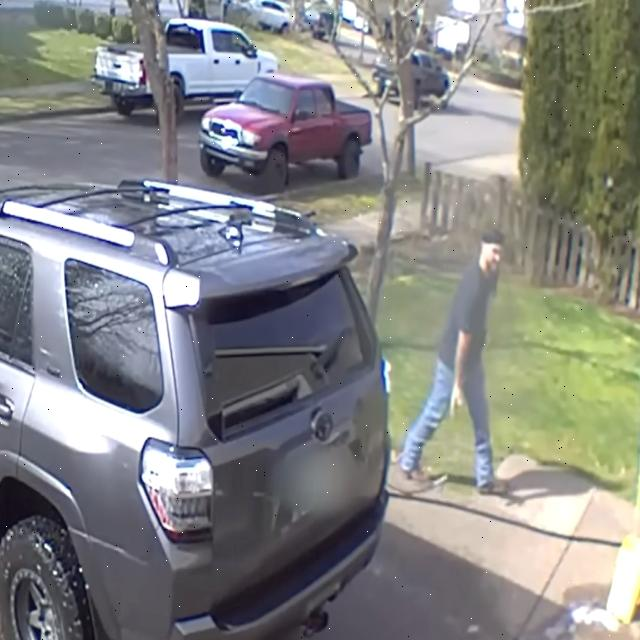standing: (398, 229, 509, 494)
